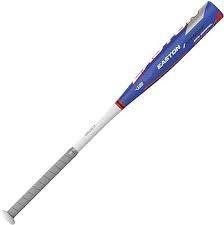Baseball-Bat: (0, 1, 224, 224)
